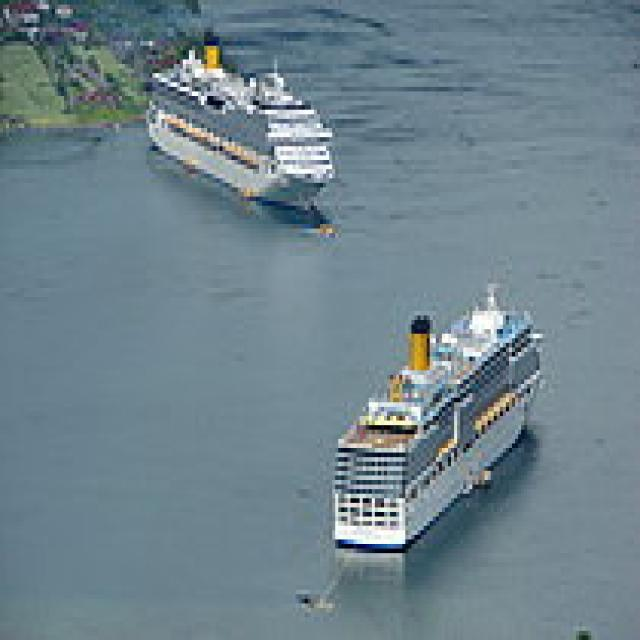Ship: (333, 271, 556, 573), (138, 19, 352, 230)
